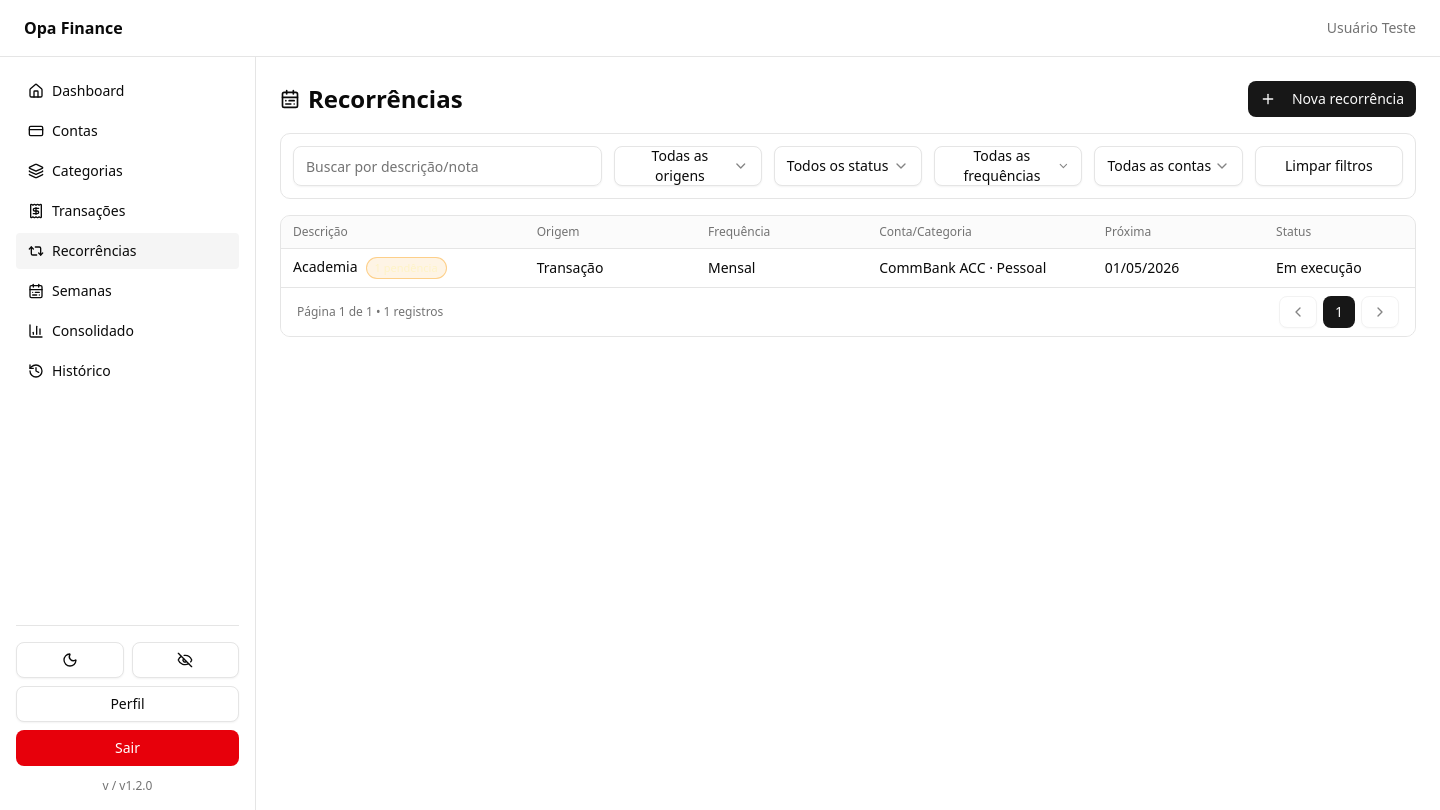
it: recurrences feature › deve mostrar mensagem clara quando confirm retorna 422 por data fora do range
This screenshot has width=1440, height=810.
Expected: the heading "Recorrências" is shown, [280, 83, 463, 115]
Expected: the text "Academia" is shown, [293, 257, 358, 276]
Click the button that starts with "Academia".
click(325, 266)  # box [293, 257, 1362, 279]
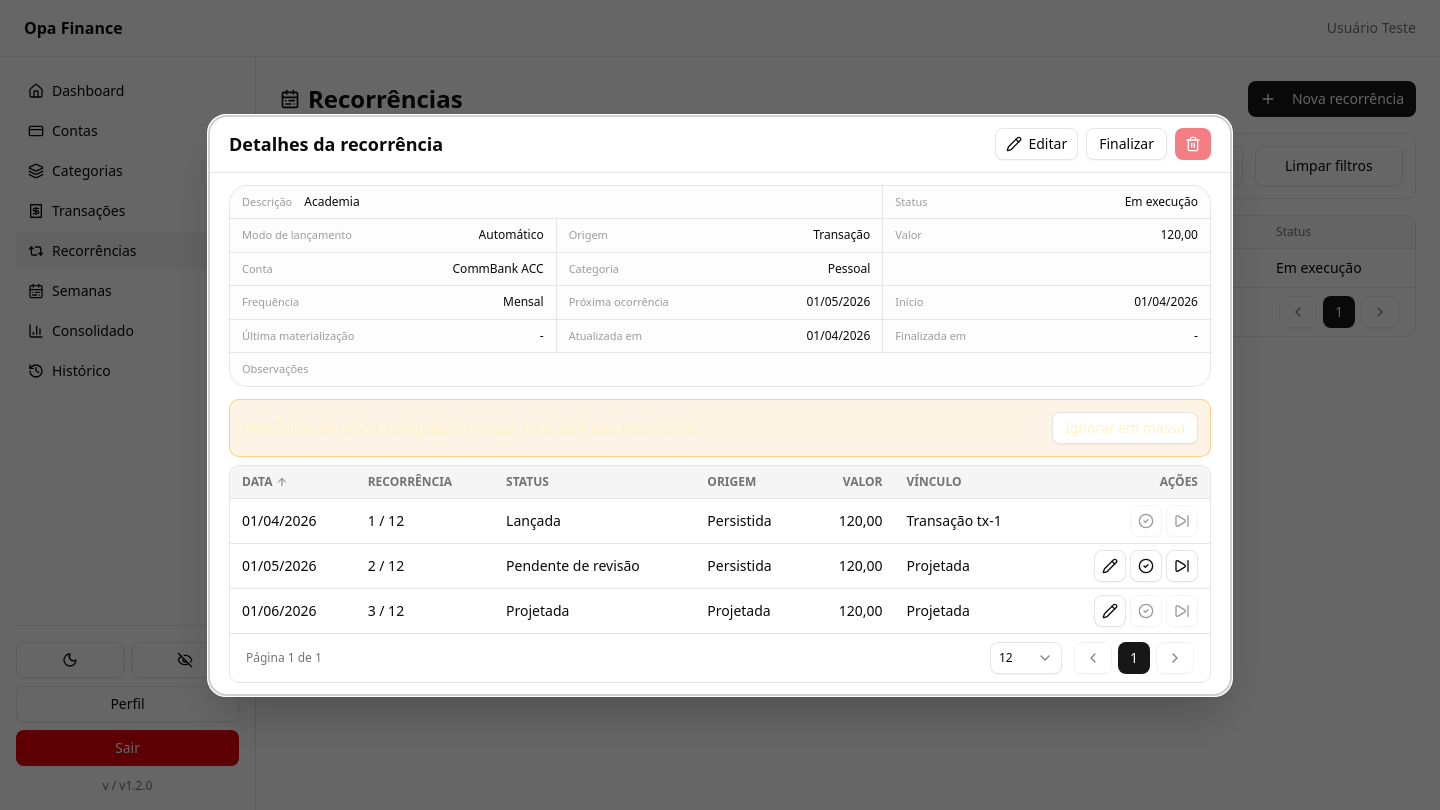
Expected: the button named "Confirmar ocorrência" in the row of "2 / 12" is shown
Click the button named "Confirmar ocorrência" in the row of "2 / 12".
click(1146, 566)  # box [1130, 550, 1162, 582]
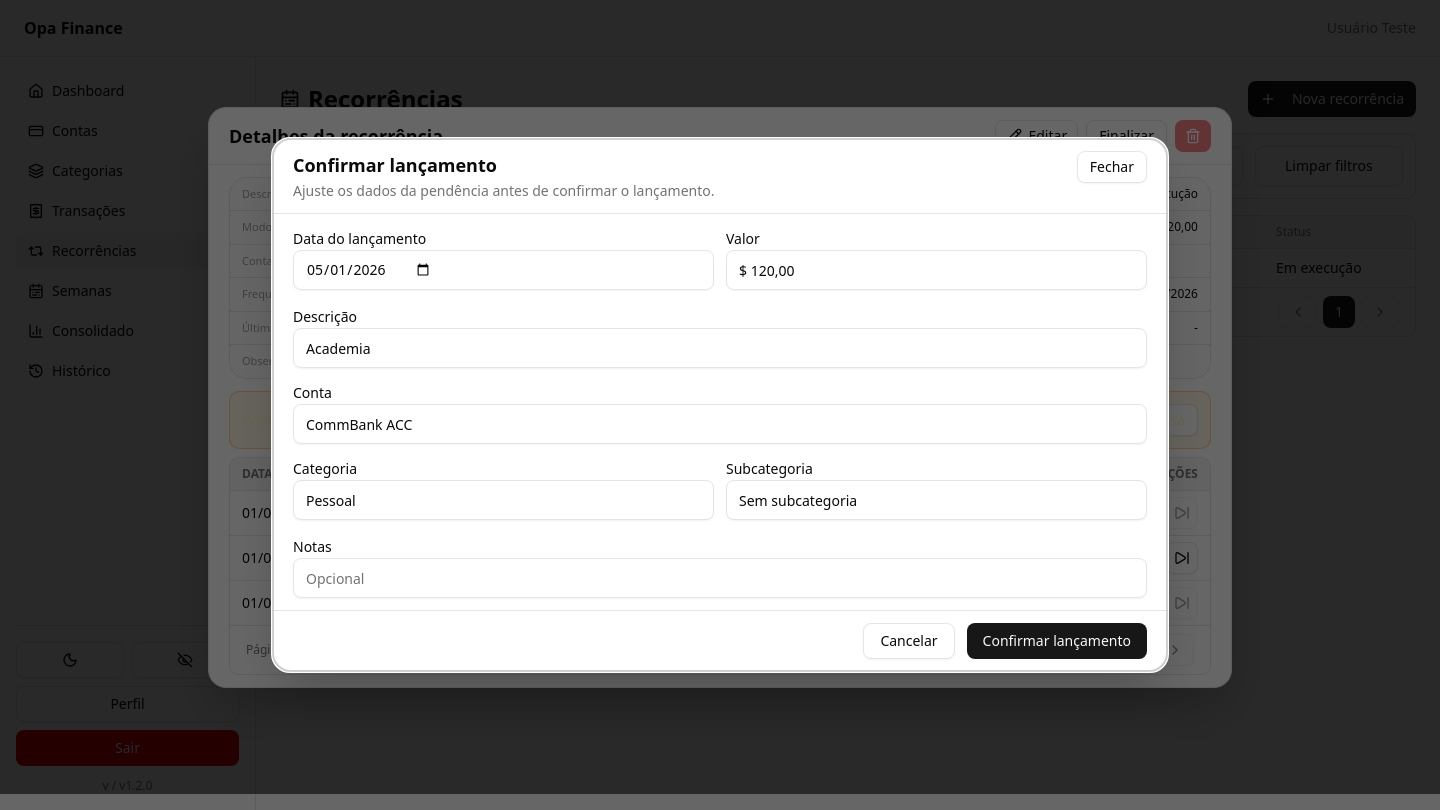
Type "2030-01-01" into the date field labelled "Data do lançamento".
click(504, 270); type("2030-01-01")  # box [293, 250, 714, 290]
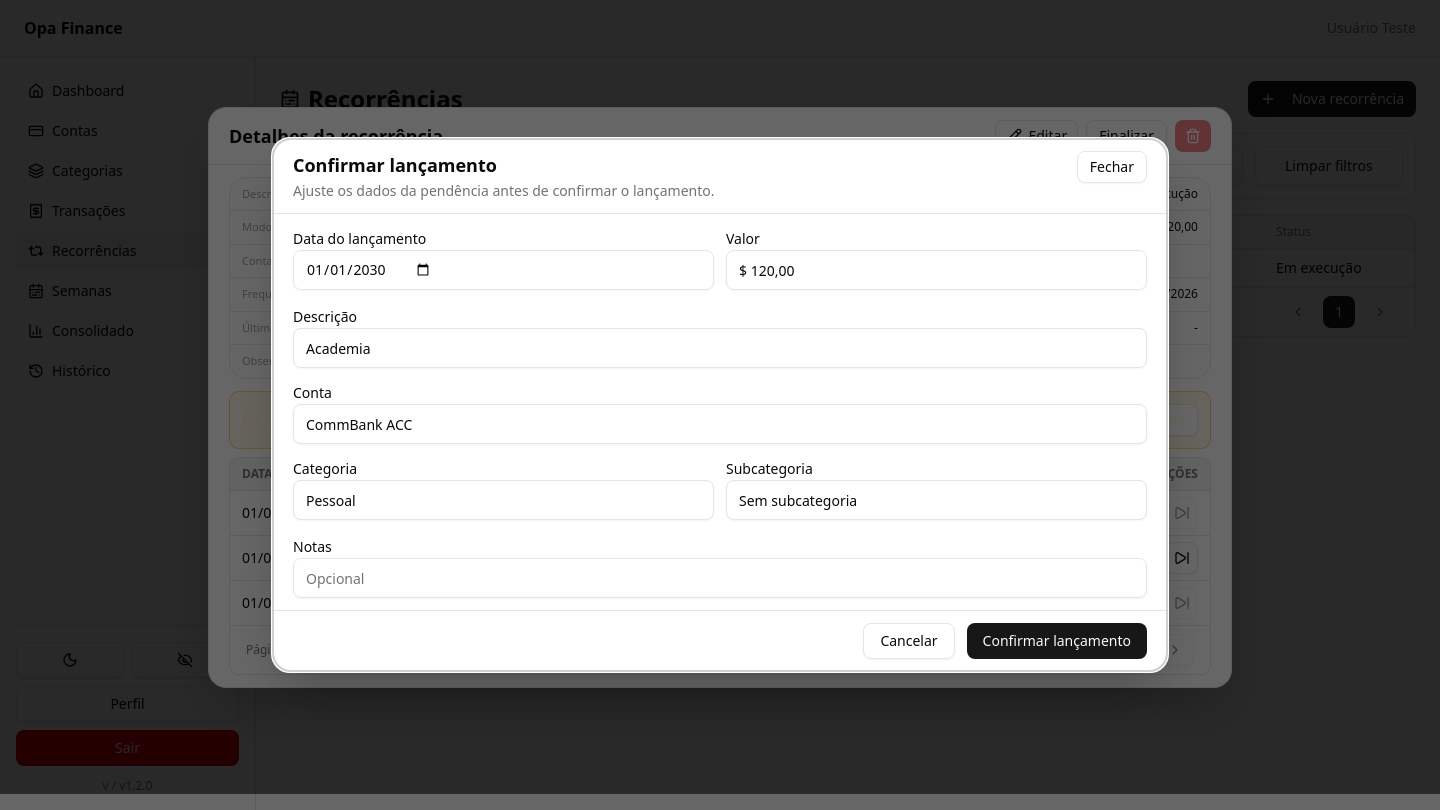
Click the button "Confirmar lançamento".
click(1057, 641)  # box [967, 623, 1147, 659]
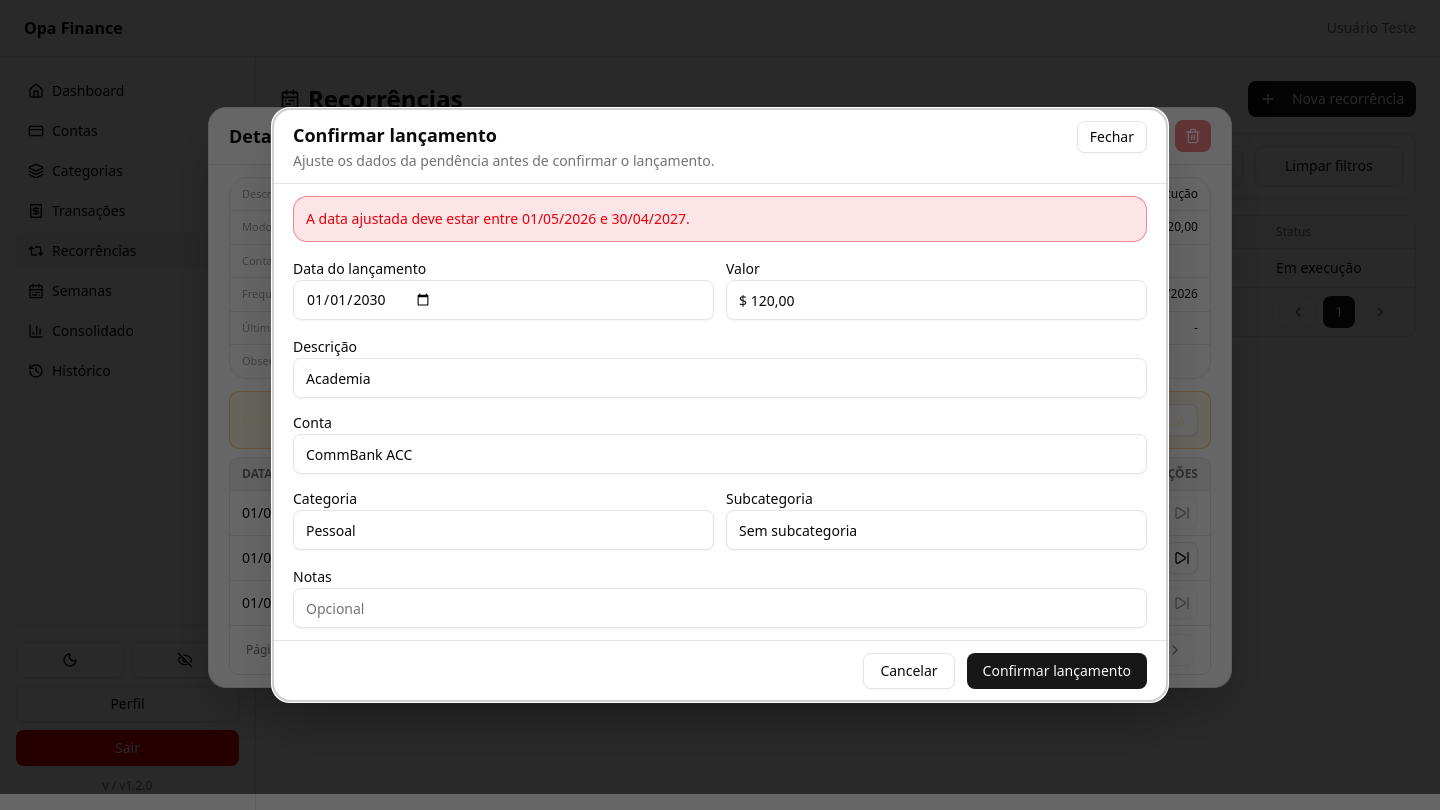
Expected: the text "A data ajustada deve estar entre 01/05/2026 e 30/04/2027." is shown, [293, 196, 1147, 242]
